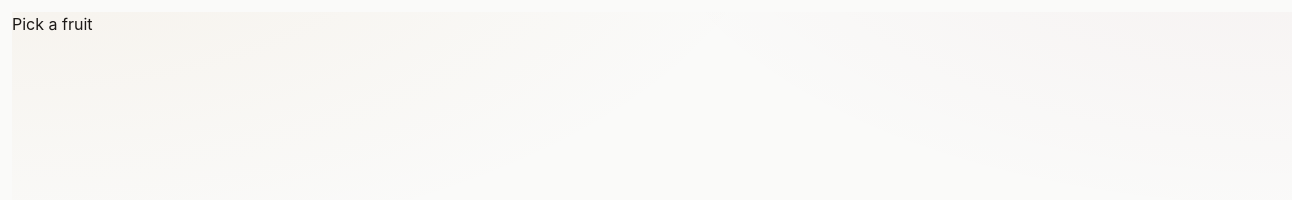
it: Menu › opens on a click with its first item focused, and says so
Click the button "Pick a fruit".
click(52, 24)  # box left=12, top=12, right=92, bottom=36
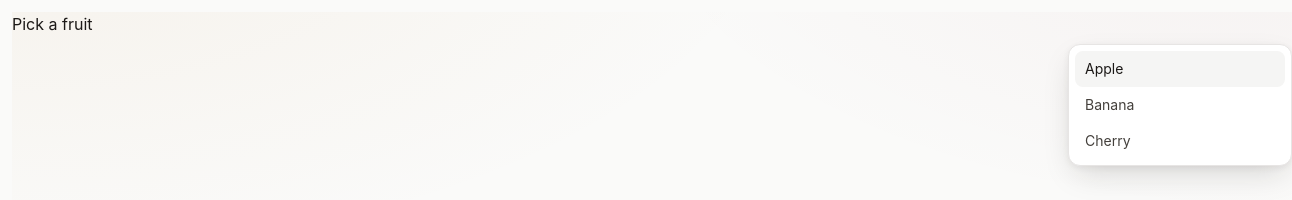
expect the menu named "Fruit" is shown: met, box left=1068, top=44, right=1291, bottom=166
